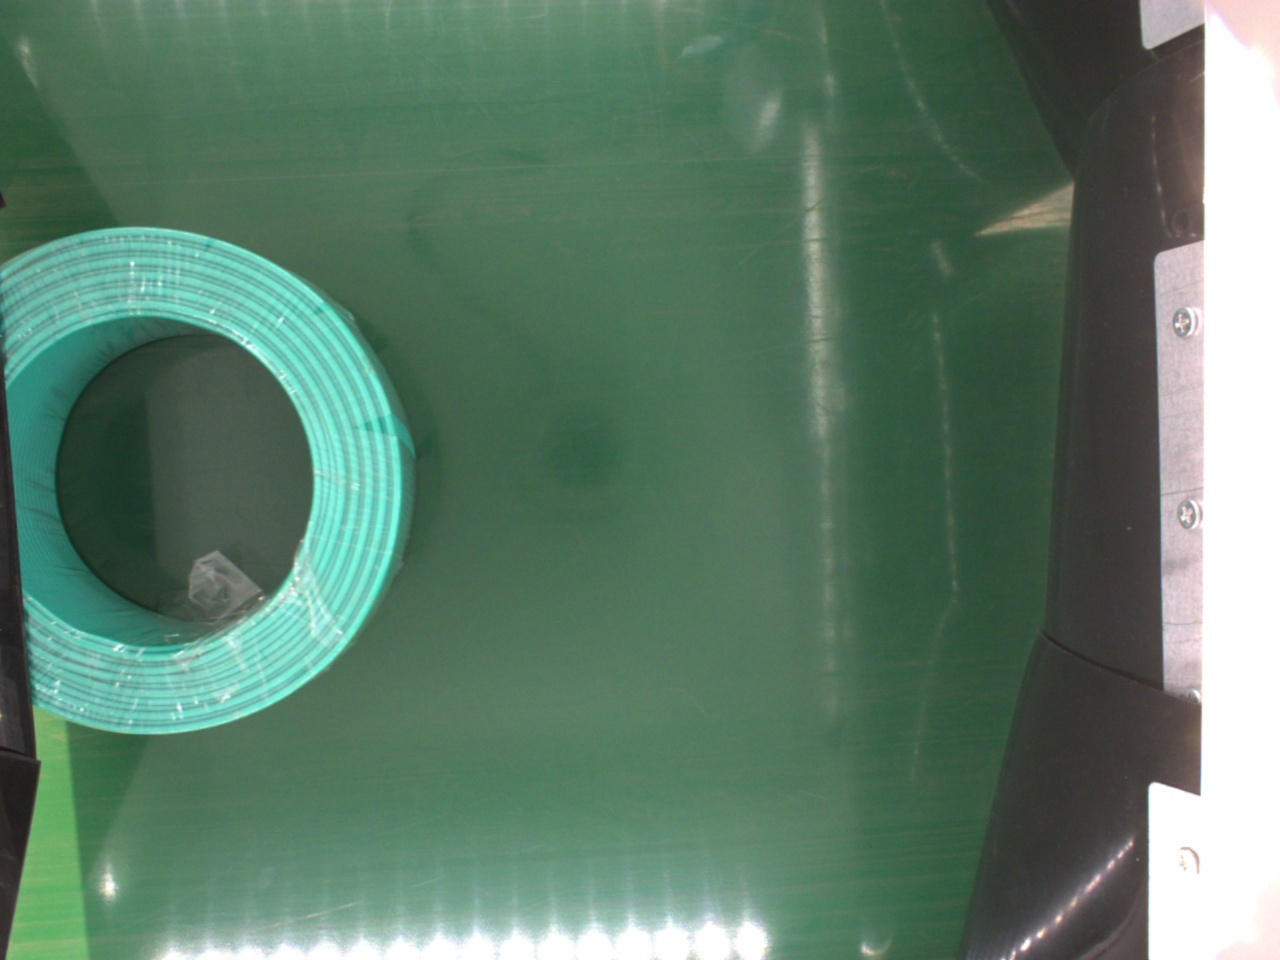green: (3, 226, 413, 738)
